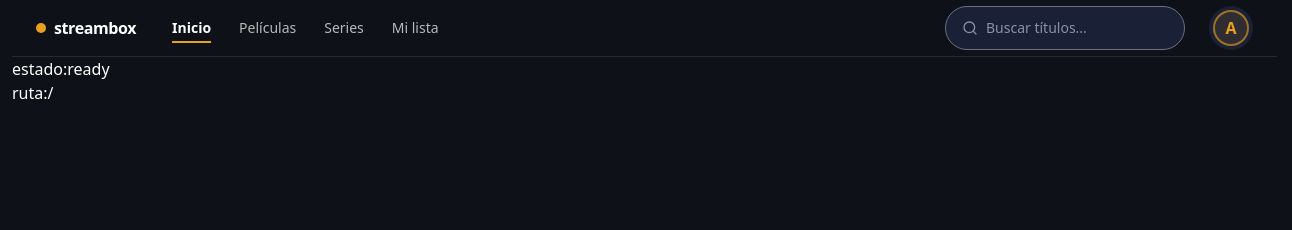
Navbar: menú de usuario › pulsar «Mi perfil» navega a /perfil y cierra el menú
Click the button named "Menú de usuario".
click(1231, 28)  # box [1209, 6, 1253, 50]
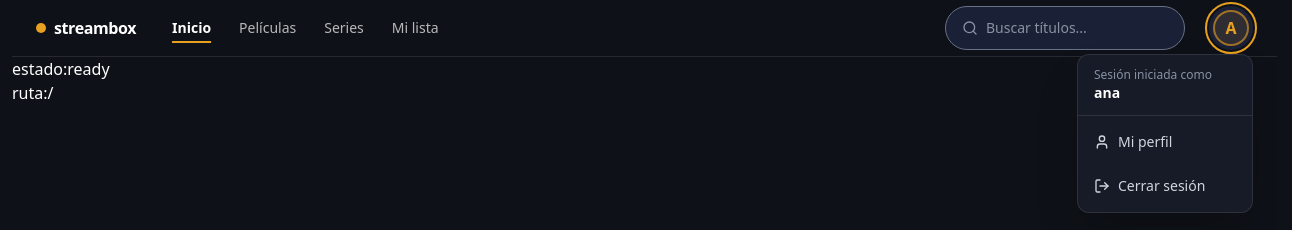
Click the link "Mi perfil".
click(1133, 142)  # box [1094, 132, 1172, 151]
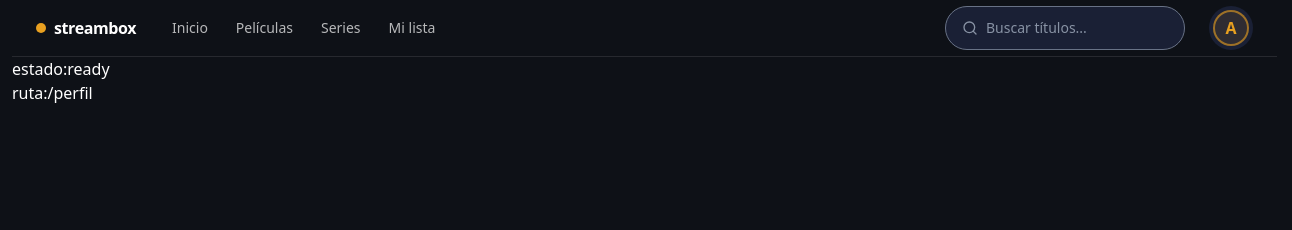
Result: the text "ruta:/perfil" is shown at [12, 82, 93, 104]
Result: the button named "Menú de usuario" is collapsed at [1209, 6, 1253, 50]
Result: the link "Mi perfil" is gone
